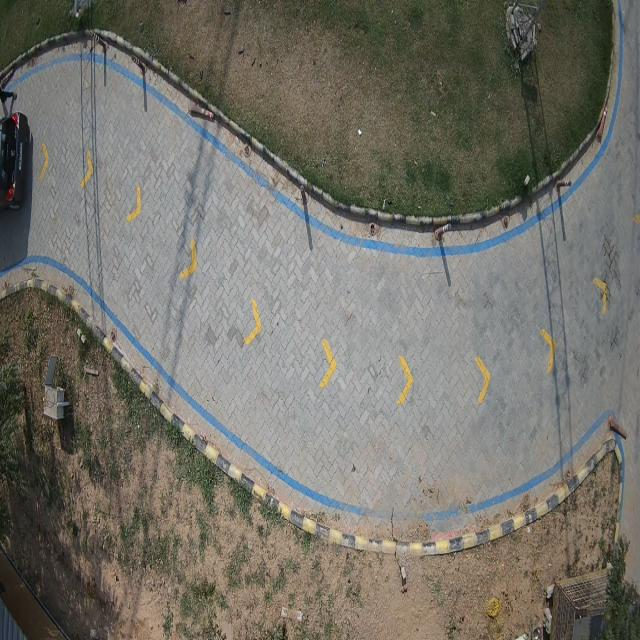car: (0, 113, 30, 209)
